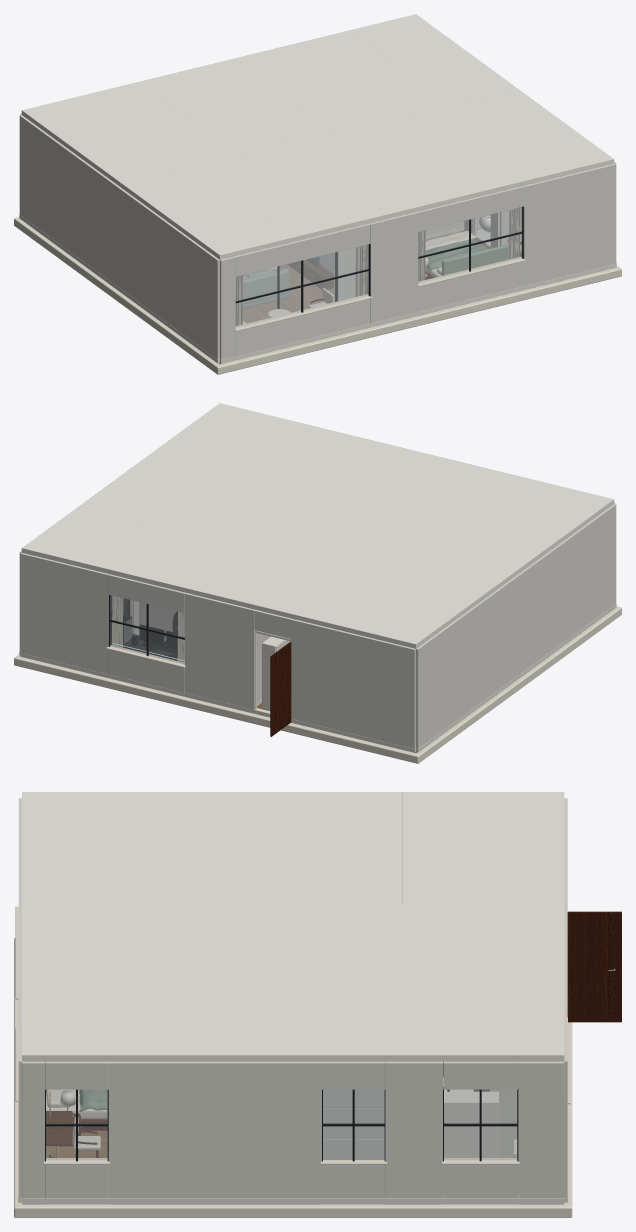
Rendered from apartment-BeaU-FrR.glb.
3 renders of one model, top to bottom at view 1: azimuth 30°, elevation 25°; view 2: azimuth 150°, elevation 25°; view 3: azimuth 270°, elevation 25°, orthographic. The views are drawn at different scales.
Visible parts, largest first — view 1: 主卧 full ceiling, Plastered wall, Balcony slider glass, Apartment solid base, Plastered wall.001, Plastered wall.002, Painted wall skirting, Linen curtain, Continuous apartment wood floor, Balcony slider frame, Stone window sill, Sofa chaise base (+3 smaller); view 2: 主卧 full ceiling, Plastered wall, Apartment solid base, Balcony slider glass, Painted wall skirting, Plastered wall.002, Plastered wall.001, Walnut door leaf, Linen curtain, Cable tray under desk, Furniture carcass.004, Desk worktop (+1 smaller); view 3: 主卧 full ceiling, Plastered wall, Balcony slider glass, Apartment solid base, Plastered wall.001, Plastered wall.002, Walnut door leaf, Bathroom wall tile.012, Furniture carcass.012, Painted wall skirting, Stone window sill, Balcony slider frame (+4 smaller).
Part boxes in pixels (left/top/right/bottom): 主卧 full ceiling: left=21, top=14, right=614, bottom=259; Plastered wall: left=19, top=114, right=616, bottom=363; Balcony slider glass: left=236, top=207, right=521, bottom=327; Apartment solid base: left=14, top=217, right=621, bottom=374; Plastered wall.001: left=235, top=261, right=524, bottom=356; Plastered wall.002: left=235, top=186, right=524, bottom=276; Painted wall skirting: left=19, top=214, right=616, bottom=363; Linen curtain: left=235, top=207, right=520, bottom=325; Continuous apartment wood floor: left=219, top=231, right=521, bottom=363; Balcony slider frame: left=235, top=206, right=523, bottom=312; Stone window sill: left=234, top=257, right=526, bottom=331; Sofa chaise base: left=243, top=269, right=289, bottom=308; 主卧 full ceiling: left=21, top=403, right=614, bottom=648; Plastered wall: left=19, top=503, right=616, bottom=752; Apartment solid base: left=14, top=606, right=621, bottom=763; Balcony slider glass: left=110, top=595, right=184, bottom=664; Painted wall skirting: left=19, top=603, right=616, bottom=752; Plastered wall.002: left=108, top=574, right=291, bottom=638; Plastered wall.001: left=108, top=649, right=184, bottom=694; Walnut door leaf: left=128, top=599, right=291, bottom=736; Linen curtain: left=112, top=596, right=184, bottom=662; Cable tray under desk: left=123, top=614, right=177, bottom=657; Furniture carcass.004: left=262, top=636, right=290, bottom=709; Desk worktop: left=110, top=598, right=177, bottom=660; 主卧 full ceiling: left=22, top=792, right=564, bottom=1061; Plastered wall: left=18, top=798, right=567, bottom=1204; Balcony slider glass: left=46, top=1090, right=516, bottom=1159; Apartment solid base: left=14, top=938, right=572, bottom=1217; Plastered wall.001: left=45, top=1164, right=517, bottom=1204; Plastered wall.002: left=18, top=808, right=567, bottom=1089; Walnut door leaf: left=443, top=911, right=621, bottom=1091; Bathroom wall tile.012: left=323, top=1089, right=384, bottom=1159; Furniture carcass.012: left=443, top=1077, right=518, bottom=1195; Painted wall skirting: left=18, top=999, right=567, bottom=1203; Stone window sill: left=15, top=906, right=570, bottom=1164; Balcony slider frame: left=45, top=1087, right=518, bottom=1161.
Size of the model in its own units: 11.08 by 3.05 by 10.54.
Materials: 62 (6 with a texture image).
